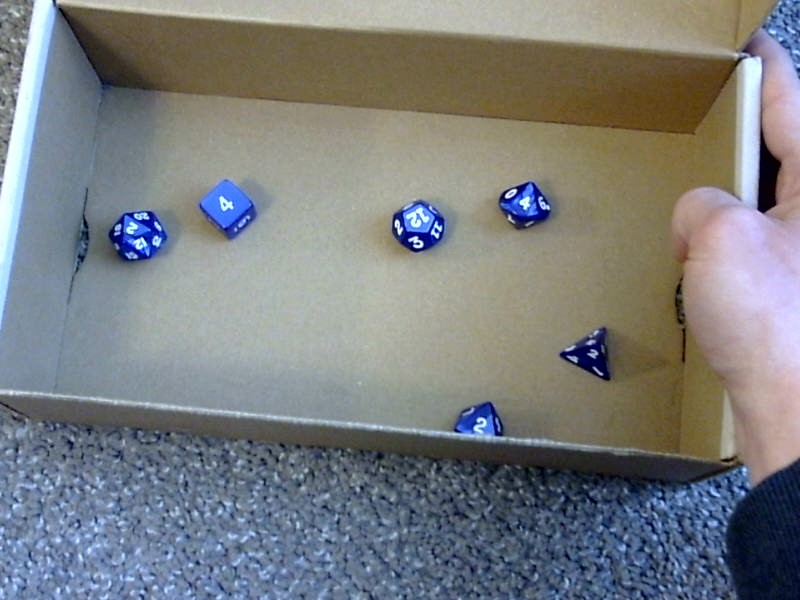d10 4: (494, 176, 551, 230)
d12 12: (387, 196, 448, 252)
d20 2: (107, 202, 167, 265)
d4 2: (558, 319, 613, 383)
d6 4: (192, 169, 257, 238)
d8 2: (453, 393, 502, 441)
